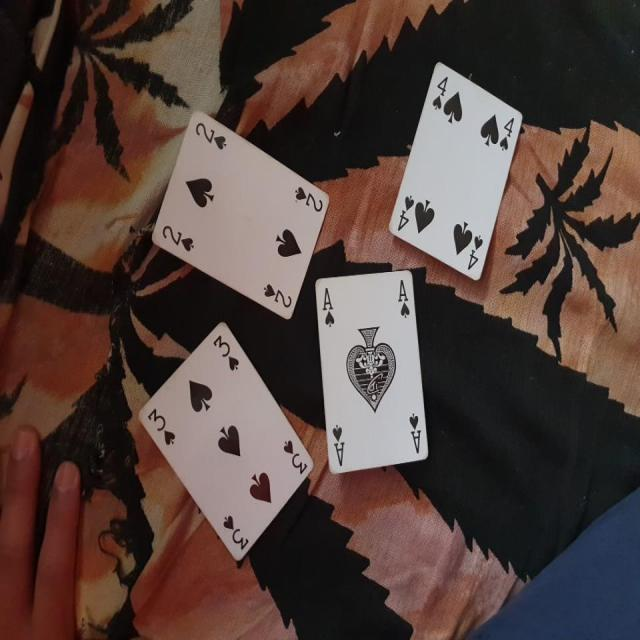2 Spades: (152, 111, 326, 327)
3 Spades: (138, 316, 314, 566)
4 Spades: (392, 51, 527, 292)
A Spades: (309, 271, 435, 473)
